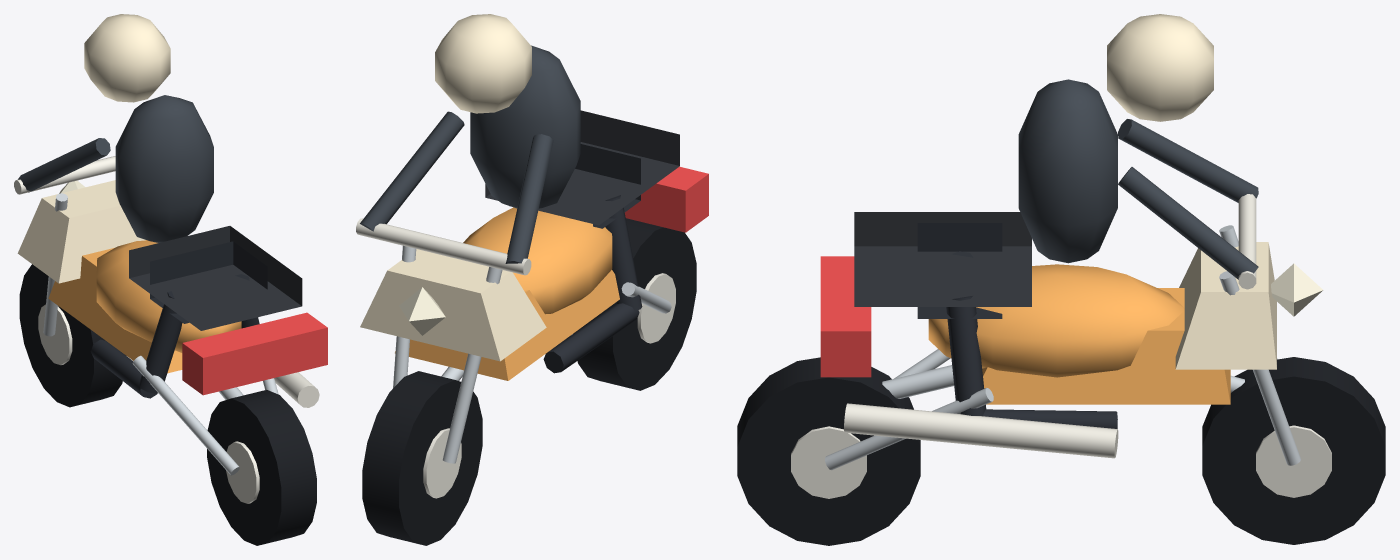
The model's file is motorcycle-rider.gltf.
3 views of the same model, side by side, from view 1: azimuth 30°, elevation 25°; view 2: azimuth 150°, elevation 25°; view 3: azimuth 270°, elevation 25° (orthographic). The views are drawn at different scales.
Parts seen in each view (by area): view 1: motorcycle_rider; view 2: motorcycle_rider; view 3: motorcycle_rider.
Boxes of the visible parts, x1,y1,x2,y2 form: motorcycle_rider: (14,14,327,545); motorcycle_rider: (356,14,708,545); motorcycle_rider: (737,14,1385,545).
Size of the model in its own units: 0.5447 by 1.35 by 1.53.
